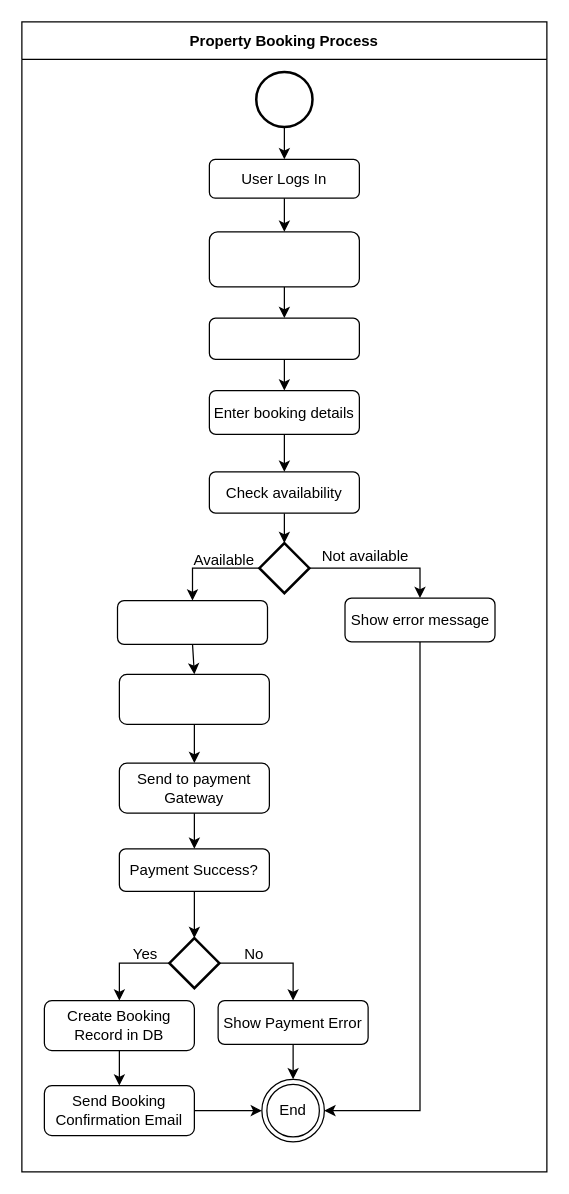
Some shapes in this 569 by 1194 pixel diagram are drawn without their labels. The shapes that lost their labels are listed below. From the top down, each one's centre as x and y in pixels, then its label:
At point 283,99: "Start".
At point 283,259: "User searches for properties".
At point 283,338: "Select property".
At point 192,621: "Proceed to payment".
At point 193,698: "Validate Payment Detail".
